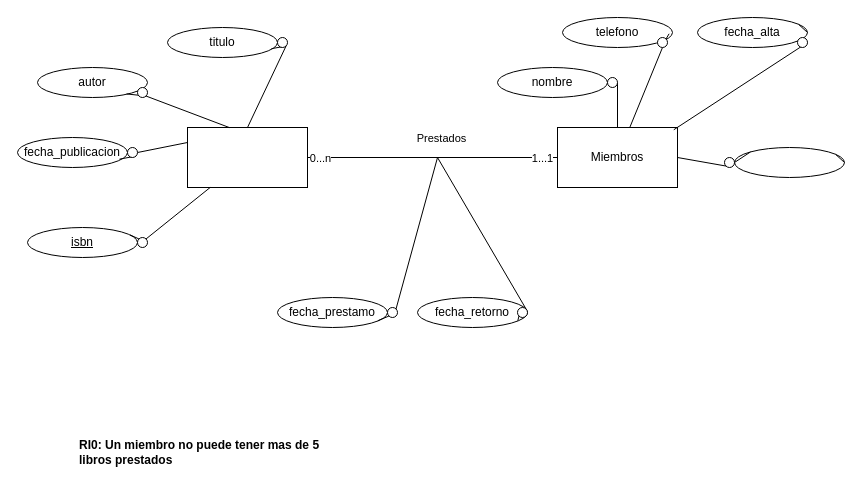
Some shapes in this 863 by 485 pixel diagram are drawn without their labels. Here are the shapes that lost their labels. From the top down, the centre of each, then its label:
point 247,157: Libros
point 789,162: id_miembro
